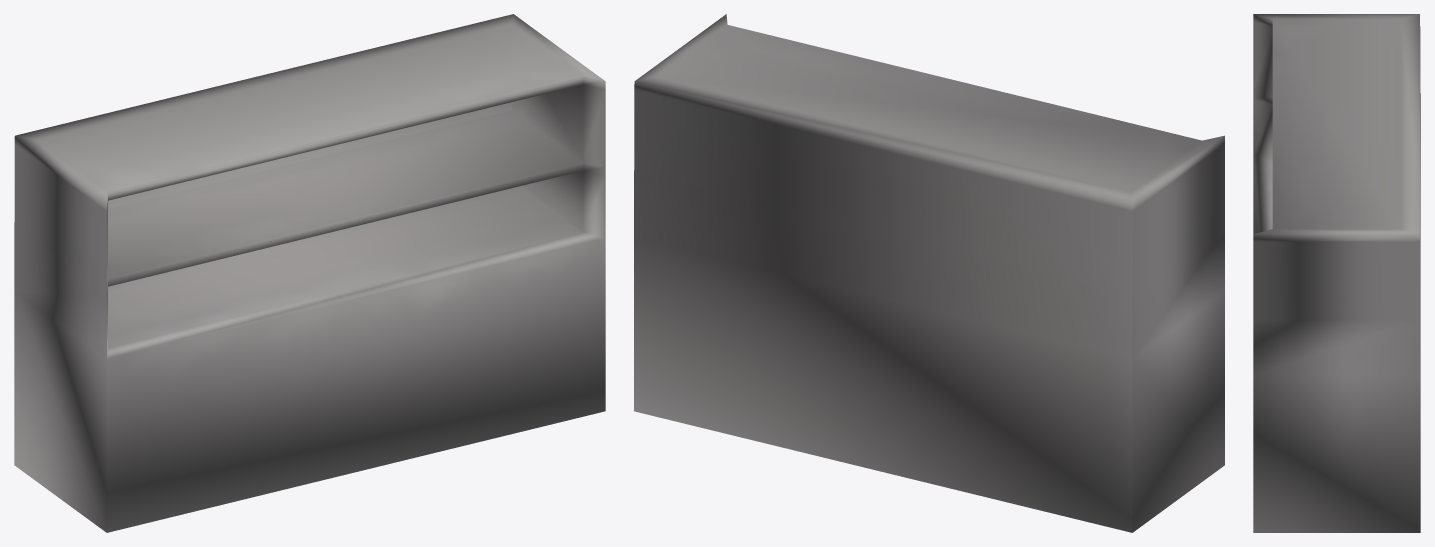
The model's file is Cupboard.fbx.
The picture shows the model from 3 angles, left to right: view 1: azimuth 30°, elevation 25°; view 2: azimuth 150°, elevation 25°; view 3: azimuth 270°, elevation 25°; orthographic projection. The views are drawn at different scales.
Parts seen in each view (by area): view 1: Box; view 2: Box; view 3: Box.
Part boxes in pixels (left/top/right/bottom): Box: left=14, top=14, right=605, bottom=532; Box: left=634, top=14, right=1224, bottom=532; Box: left=1253, top=14, right=1420, bottom=532.
Bounding box in the file's own units: 386 × 244 × 124.
1 material, 1 textured.
